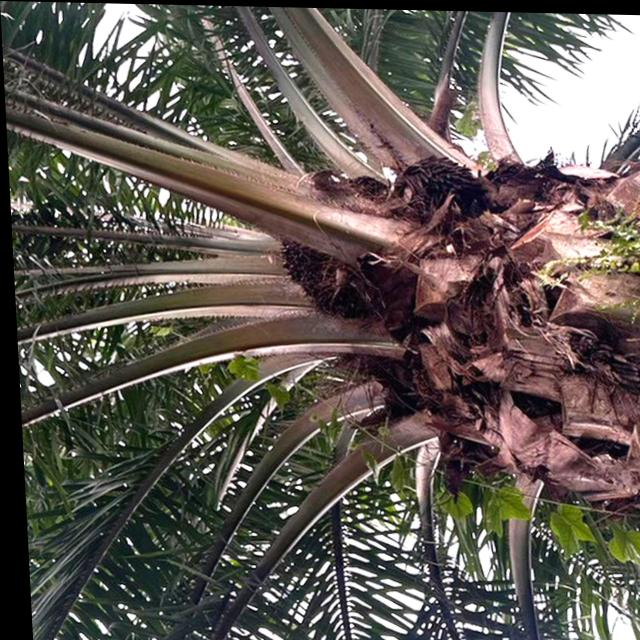ripe: (267, 230, 395, 336)
